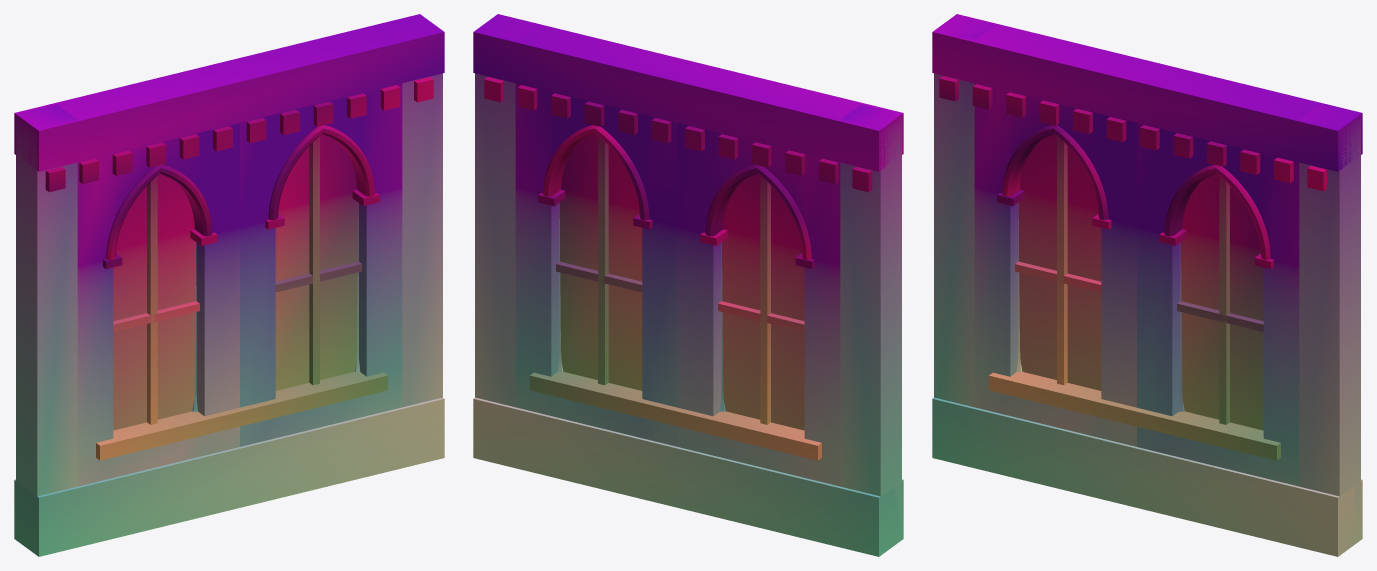
The model's file is palace_window_4m.glb.
3 views of the same model, side by side, from view 1: azimuth 30°, elevation 25°; view 2: azimuth 150°, elevation 25°; view 3: azimuth 330°, elevation 25° (orthographic).
Visible parts, largest first — view 1: palace_win_wall, palace_win_panes, palace_win_l, palace_win_r, palace_win_gild, palace_win_arch_l, palace_win_arch_r; view 2: palace_win_wall, palace_win_panes, palace_win_l, palace_win_r, palace_win_gild, palace_win_arch_l, palace_win_arch_r; view 3: palace_win_wall, palace_win_panes, palace_win_r, palace_win_l, palace_win_gild, palace_win_arch_r, palace_win_arch_l.
Part boxes in pixels (<box>): palace_win_wall: <box>14,14,444,556</box>; palace_win_panes: <box>113,134,358,430</box>; palace_win_l: <box>77,123,239,486</box>; palace_win_r: <box>240,83,402,446</box>; palace_win_gild: <box>45,77,433,460</box>; palace_win_arch_l: <box>106,164,212,259</box>; palace_win_arch_r: <box>268,125,374,220</box>; palace_win_wall: <box>473,14,903,556</box>; palace_win_panes: <box>559,134,804,430</box>; palace_win_l: <box>678,123,840,486</box>; palace_win_r: <box>515,83,677,446</box>; palace_win_gild: <box>484,77,872,460</box>; palace_win_arch_l: <box>705,164,811,259</box>; palace_win_arch_r: <box>543,125,649,220</box>; palace_win_wall: <box>932,14,1362,556</box>; palace_win_panes: <box>1018,134,1263,430</box>; palace_win_r: <box>1137,123,1299,486</box>; palace_win_l: <box>974,83,1136,446</box>; palace_win_gild: <box>939,76,1326,460</box>; palace_win_arch_r: <box>1164,164,1270,259</box>; palace_win_arch_l: <box>1002,125,1108,220</box>.
Bounding box in the file's own units: 4 × 4.01 × 0.5.
